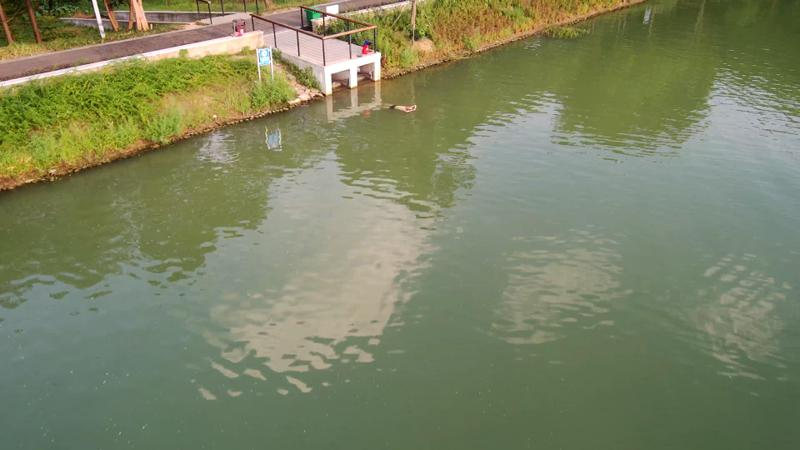swimmers: (383, 103, 417, 114)
